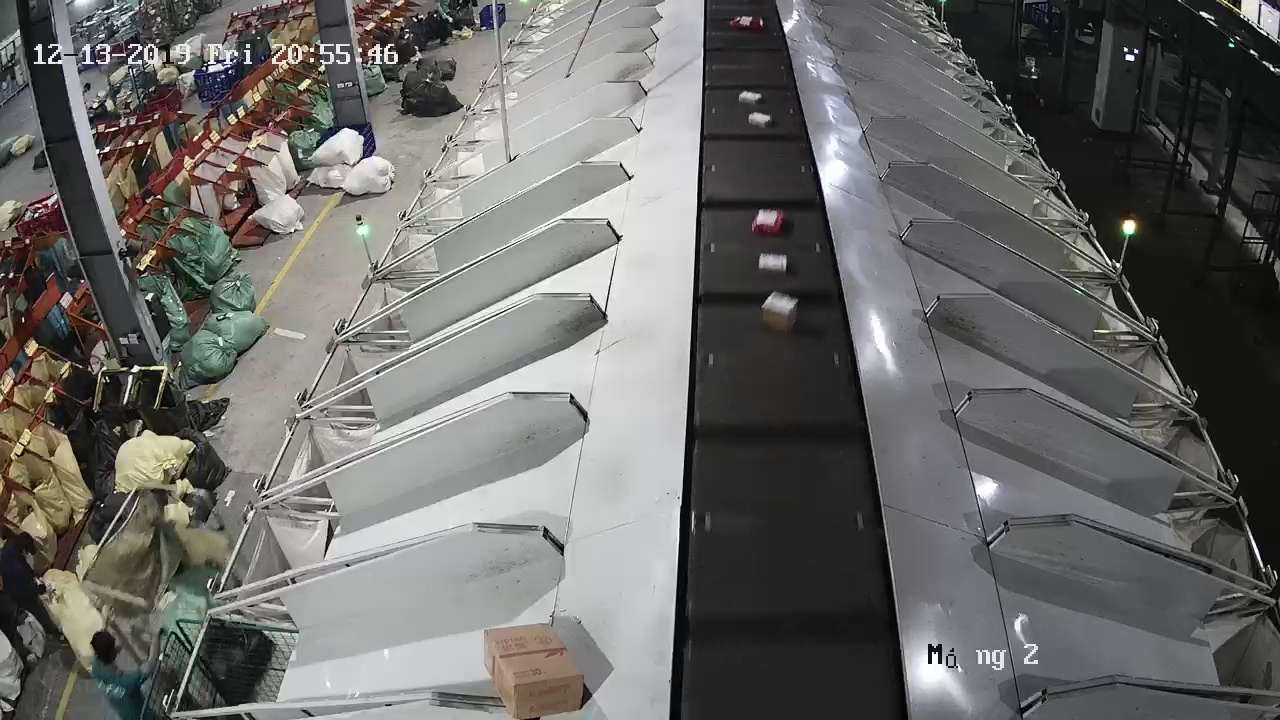parcel: (761, 290, 799, 332)
